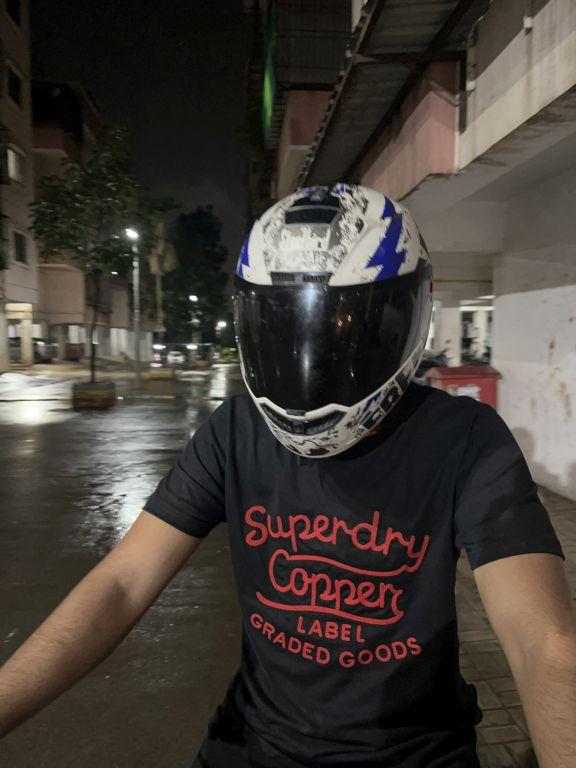helmet: (219, 174, 446, 469)
